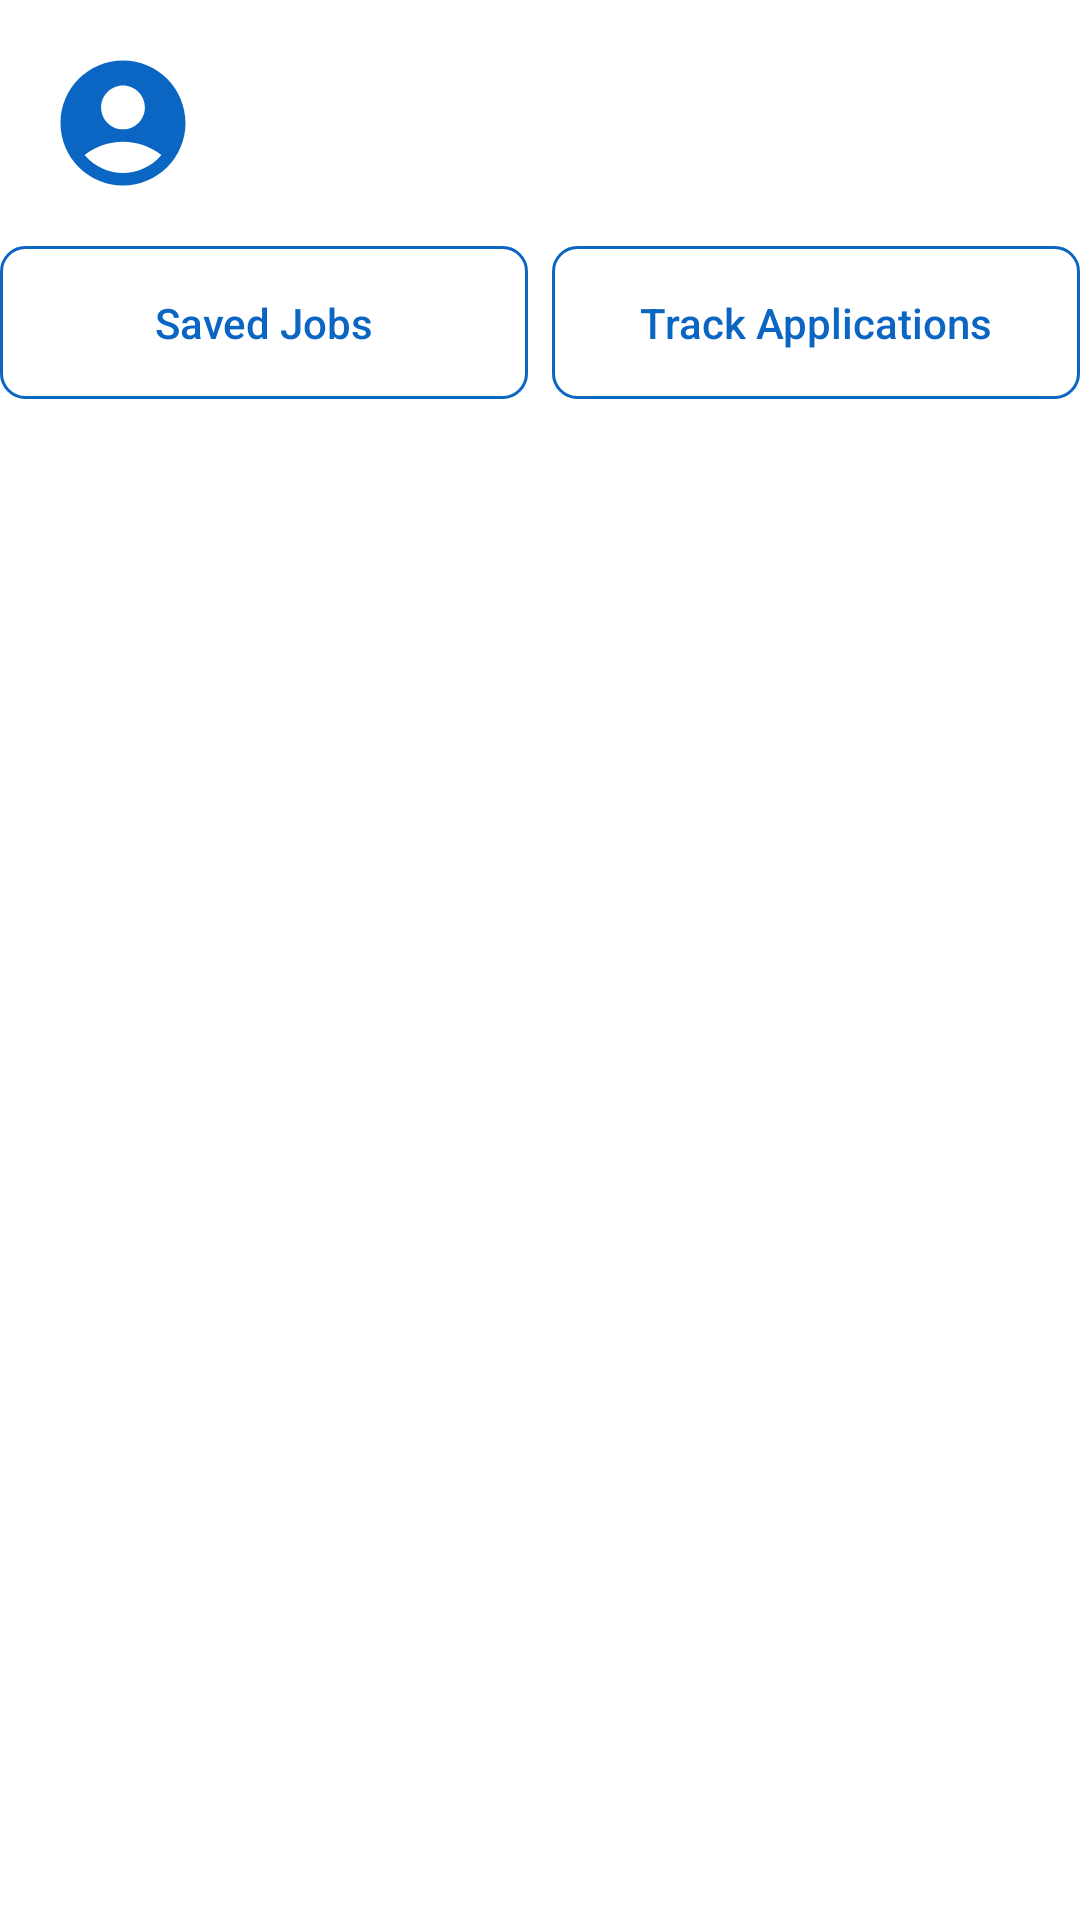

Point at icon controls on the screen. Image size 1080px×1920px, points as (x=x, y=y).
Profile Photo: (x=123, y=123)
